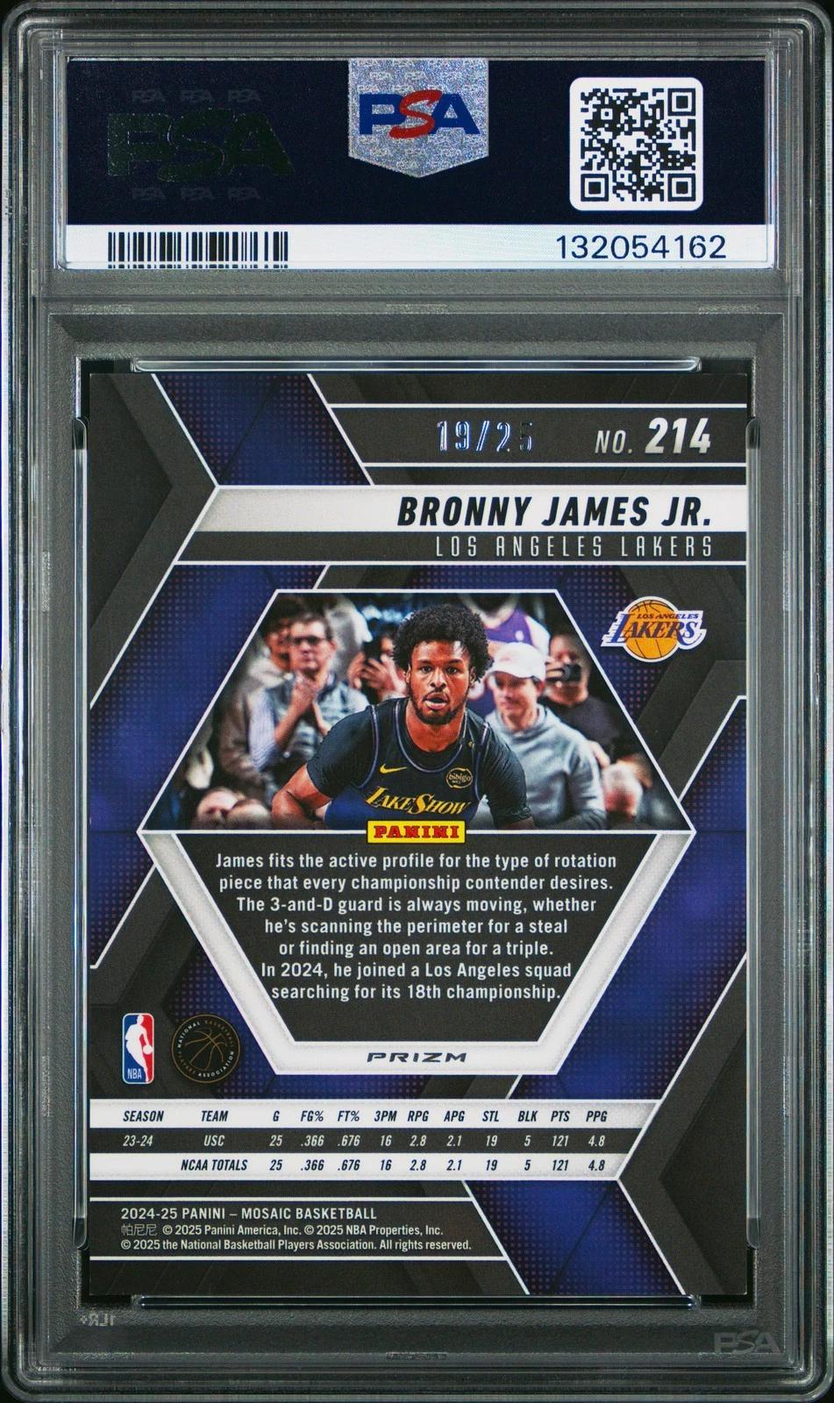card-2UtV: (88, 372, 747, 1296)
